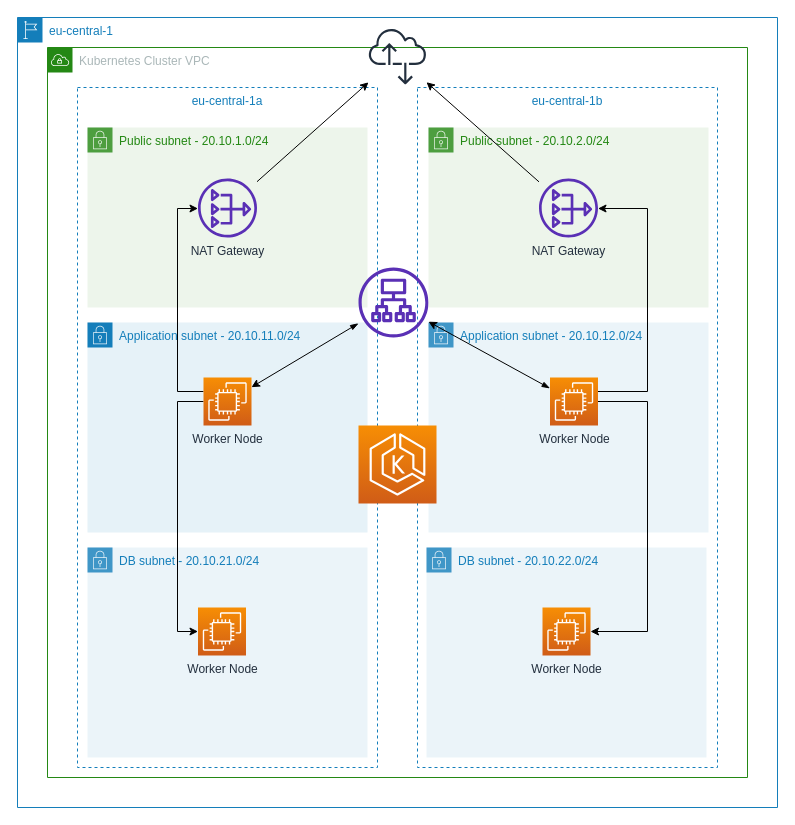
Some shapes in this 795 by 825 pixel diagram are drawn without their labels. Here are the shapes that lost their labels. From the top down, the centre of each, then its label:
At [397,56]: "Internet Gateway".
At [393,302]: "Cluster ALB".
At [397,464]: "EKS Control Plane".
